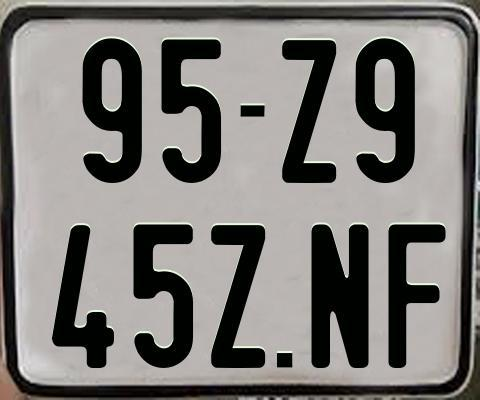4: (49, 223, 111, 372)
5: (133, 221, 199, 371), (158, 37, 222, 182)
9: (353, 37, 419, 184), (81, 36, 142, 186)
F: (386, 222, 449, 372)
N: (311, 221, 375, 368)
Z: (279, 37, 339, 184), (210, 223, 268, 369)
